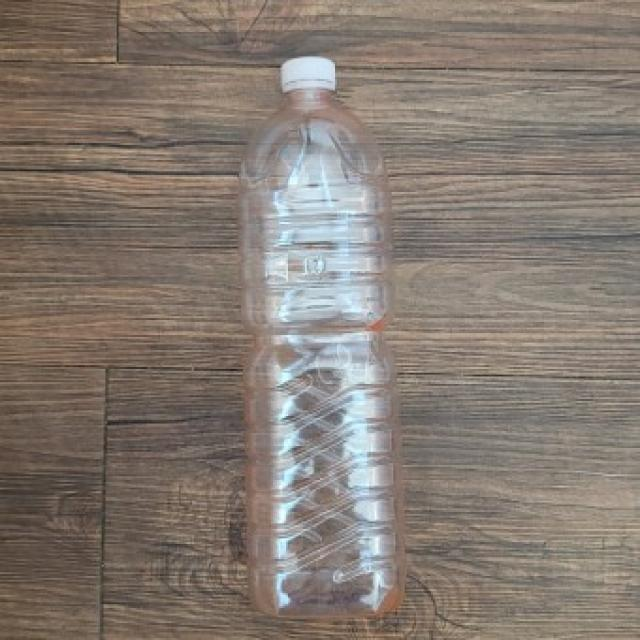plastic_bottle: (241, 54, 408, 622)
